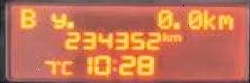-: (65, 19, 74, 29), (170, 20, 179, 29)
0: (153, 8, 172, 29), (92, 53, 110, 74), (185, 8, 202, 29)
1: (83, 54, 92, 74)
2: (62, 29, 80, 49), (117, 53, 133, 75), (144, 30, 159, 49)
3: (80, 29, 95, 49), (112, 29, 127, 49)
4: (95, 30, 110, 49)
5: (129, 29, 144, 49)
7: (42, 58, 53, 74)
8: (135, 54, 154, 75)
X: (17, 7, 35, 28), (202, 5, 215, 29), (49, 10, 65, 29), (215, 12, 232, 29), (58, 59, 72, 74), (160, 31, 169, 42), (169, 33, 180, 42), (110, 57, 115, 72)
